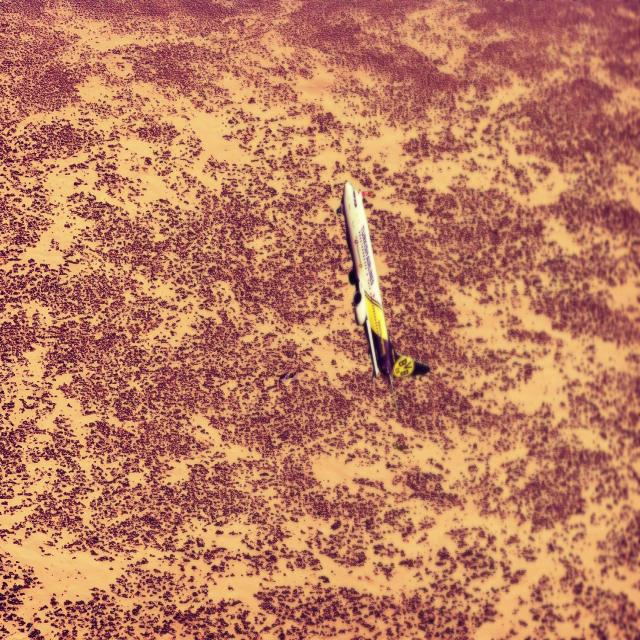airplane: (336, 180, 430, 408)
